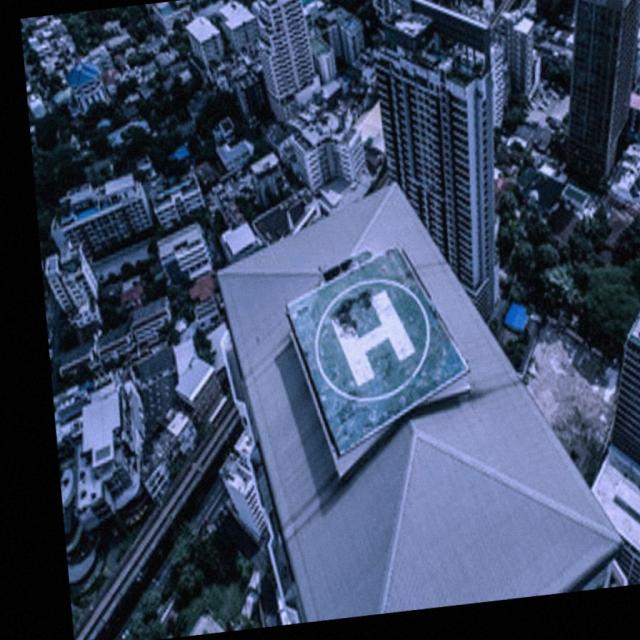helipad: (308, 272, 432, 404)
